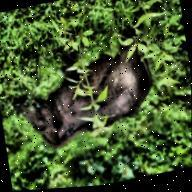boar: (4, 18, 160, 159)
